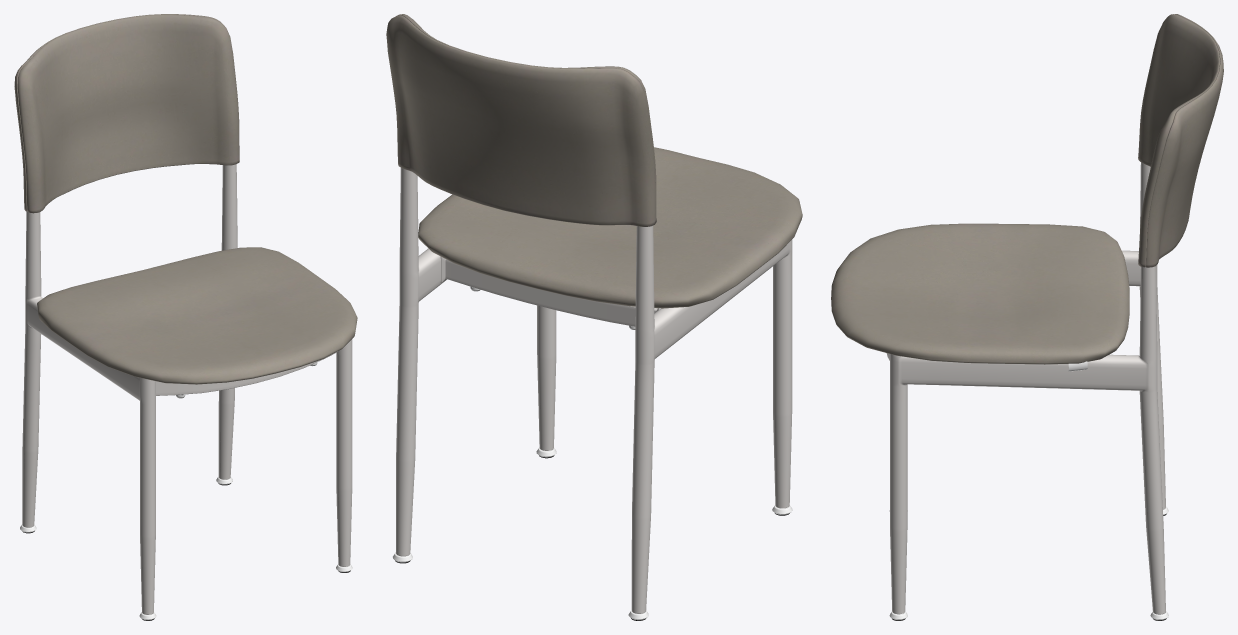
File: BHID01430.glb
3 views of the same model, side by side, from view 1: azimuth 30°, elevation 25°; view 2: azimuth 150°, elevation 25°; view 3: azimuth 270°, elevation 25° (orthographic). The views are drawn at different scales.
Parts seen in each view (by area): view 1: BP_BHID01430; view 2: BP_BHID01430; view 3: BP_BHID01430.
Part boxes in pixels (<box>): BP_BHID01430: <box>14,14,357,620</box>; BP_BHID01430: <box>386,14,802,620</box>; BP_BHID01430: <box>831,14,1223,620</box>.
Size of the model in its own units: 0.4643 by 0.8191 by 0.5781.
Materials: 4 (1 with a texture image).
